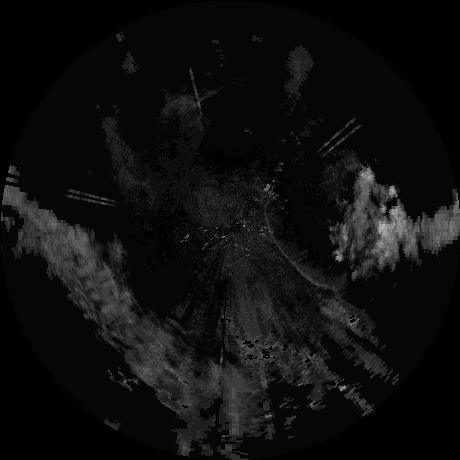frontgust: (262, 203, 337, 288)
